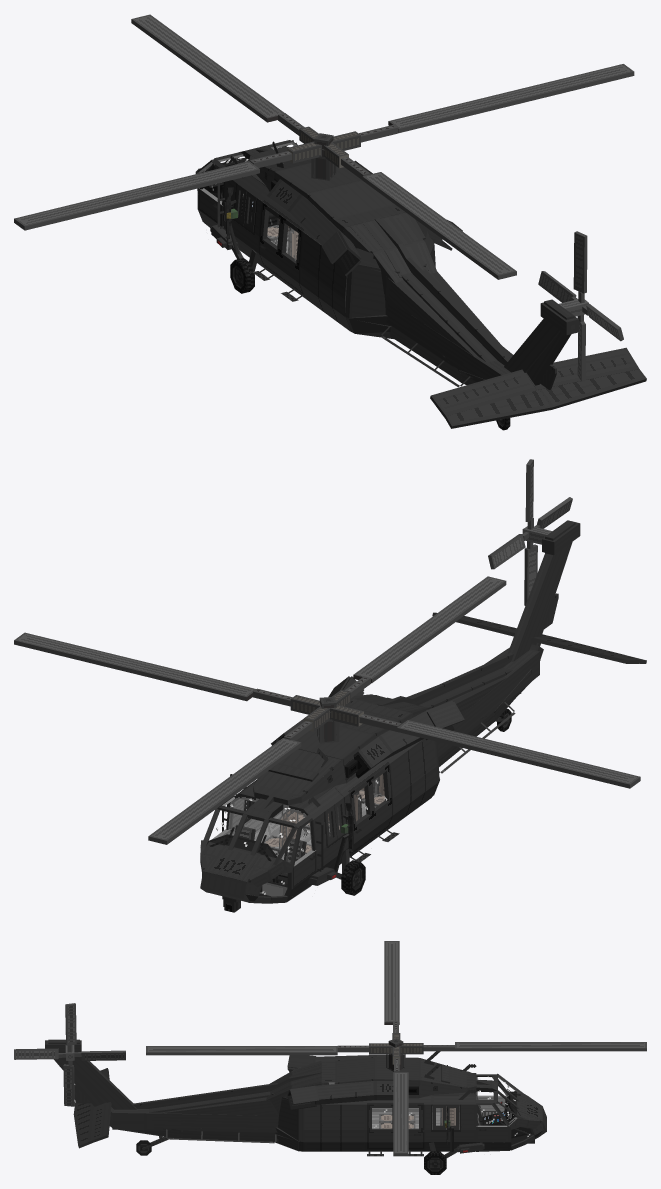
3 views of the same model, one above another, from view 1: azimuth 30°, elevation 25°; view 2: azimuth 150°, elevation 25°; view 3: azimuth 270°, elevation 25° (orthographic). The views are drawn at different scales.
Visible parts, largest first — view 1: corpus (×22), VINT (×4), zaddoor, VINT2; view 2: corpus (×16), VINT (×4), zaddoor, VINT2; view 3: corpus (×26), VINT (×4), VINT2 (×4), zaddoor2 (×2), door2.
Boxes of the visible parts, <box> form: corpus (×22): <box>267,162,646,428</box>; VINT (×4): <box>14,14,634,279</box>; zaddoor: <box>259,237,299,283</box>; VINT2: <box>573,231,587,293</box>; corpus (×16): <box>200,544,639,898</box>; VINT (×4): <box>14,576,640,844</box>; zaddoor: <box>353,799,392,844</box>; VINT2: <box>488,534,525,569</box>; corpus (×26): <box>54,1057,542,1151</box>; VINT (×4): <box>146,941,646,1156</box>; VINT2 (×4): <box>14,1003,125,1106</box>; zaddoor2 (×2): <box>367,1128,424,1149</box>; door2: <box>476,1125,509,1142</box>.
Size of the model in its own units: 18.71 by 6.56 by 23.58.
1 material, 1 textured.
